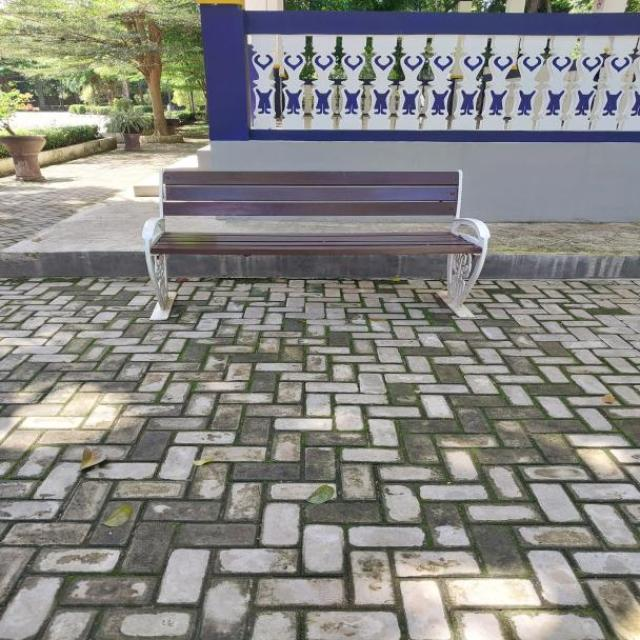bench ahead at: (136, 164, 485, 327)
